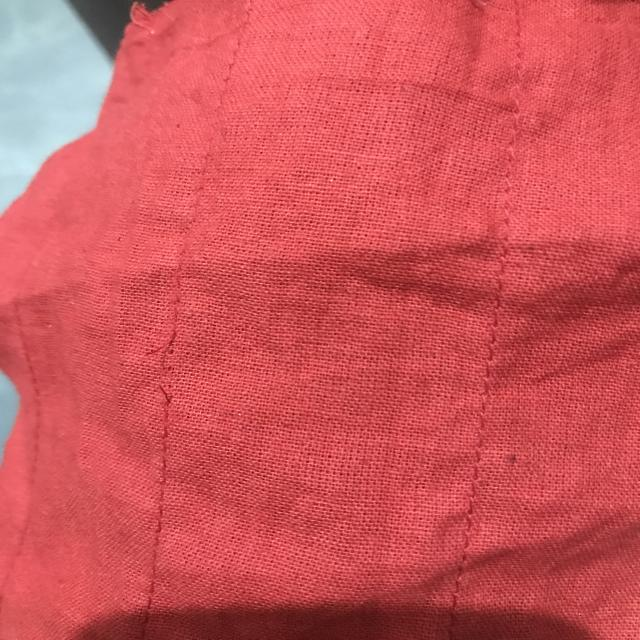broken: (122, 314, 196, 430)
good: (469, 356, 512, 495)
